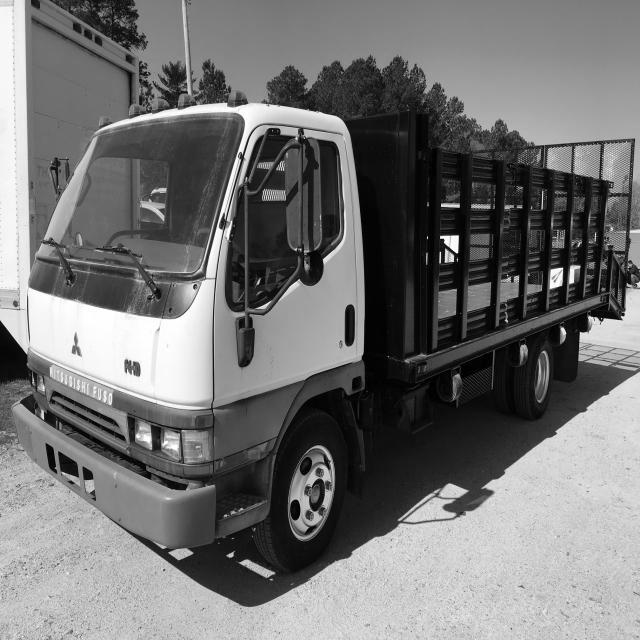truck: (14, 84, 404, 575)
